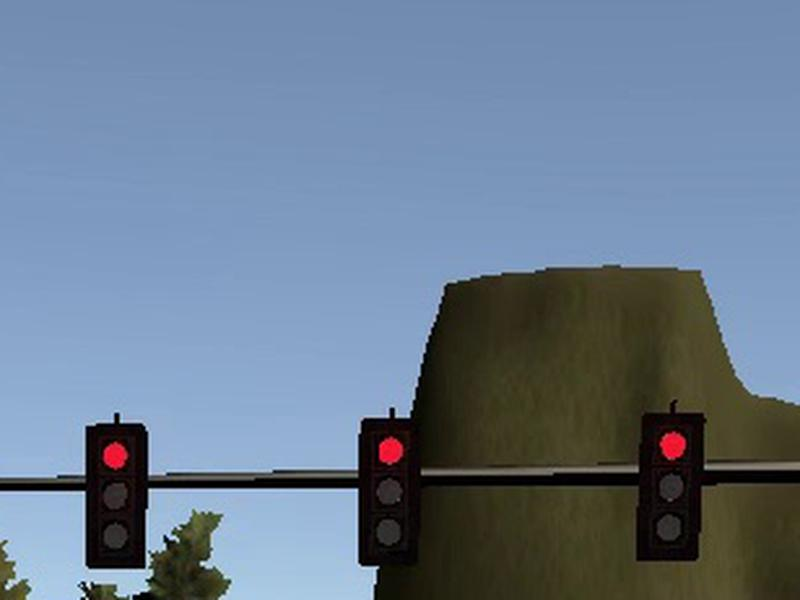Red: (637, 412, 707, 561), (86, 423, 149, 570), (357, 419, 420, 566)
